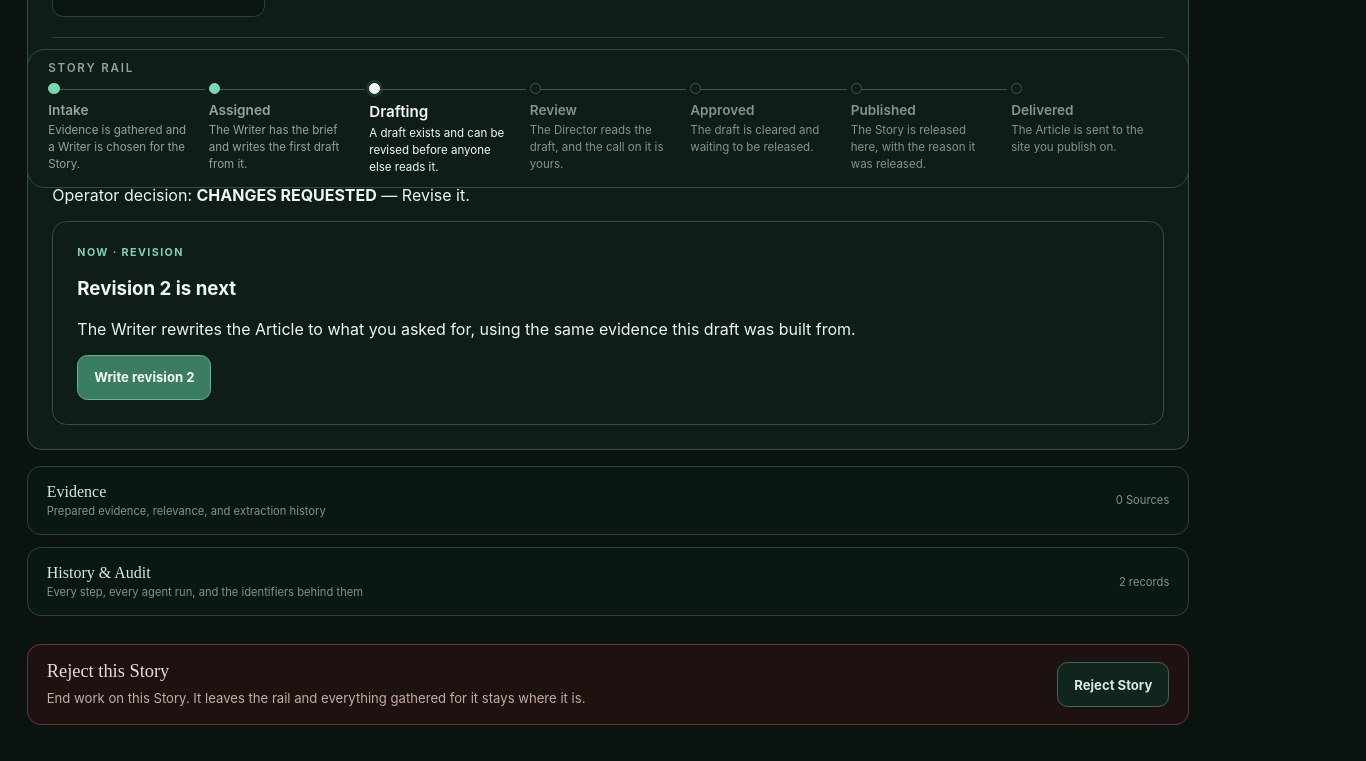
Scenario: Director review workspace › shows the shared pending surface and no action while Writer revision is active
The image size is (1366, 761).
(page scrolled)
What coordinates should you click on to do the following:
click the button "Write revision 2"
I would click on:
 (144, 377)
Its box is left=77, top=355, right=212, bottom=400.
(page scrolled)
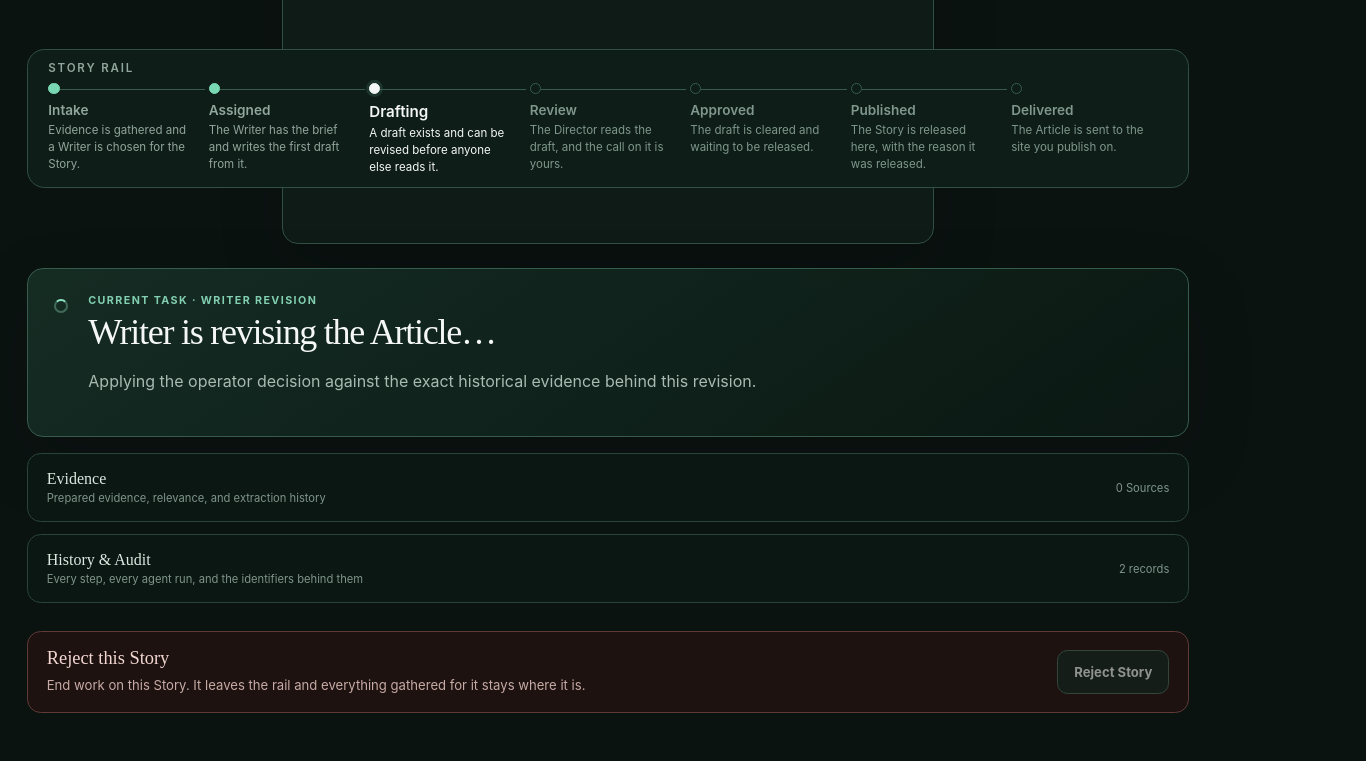
Now the button "Write revision 2" is gone
Now the button "Reject Story" is disabled, box left=1057, top=650, right=1169, bottom=694
